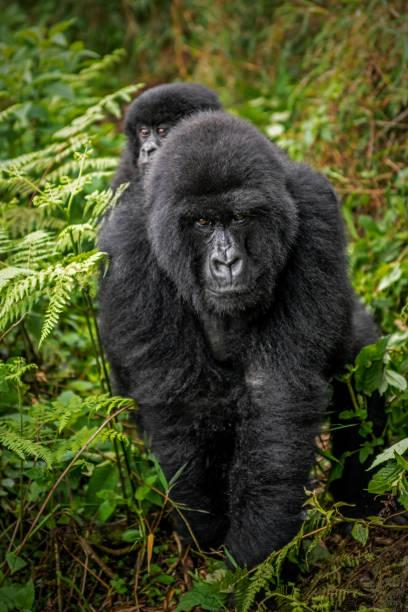goriile_montagne: (98, 125, 404, 574), (105, 62, 217, 165)
